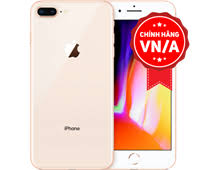iphone: (26, 1, 114, 170)
iphone8: (24, 1, 180, 170)
